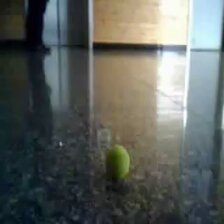tennis: (104, 144, 130, 179)
